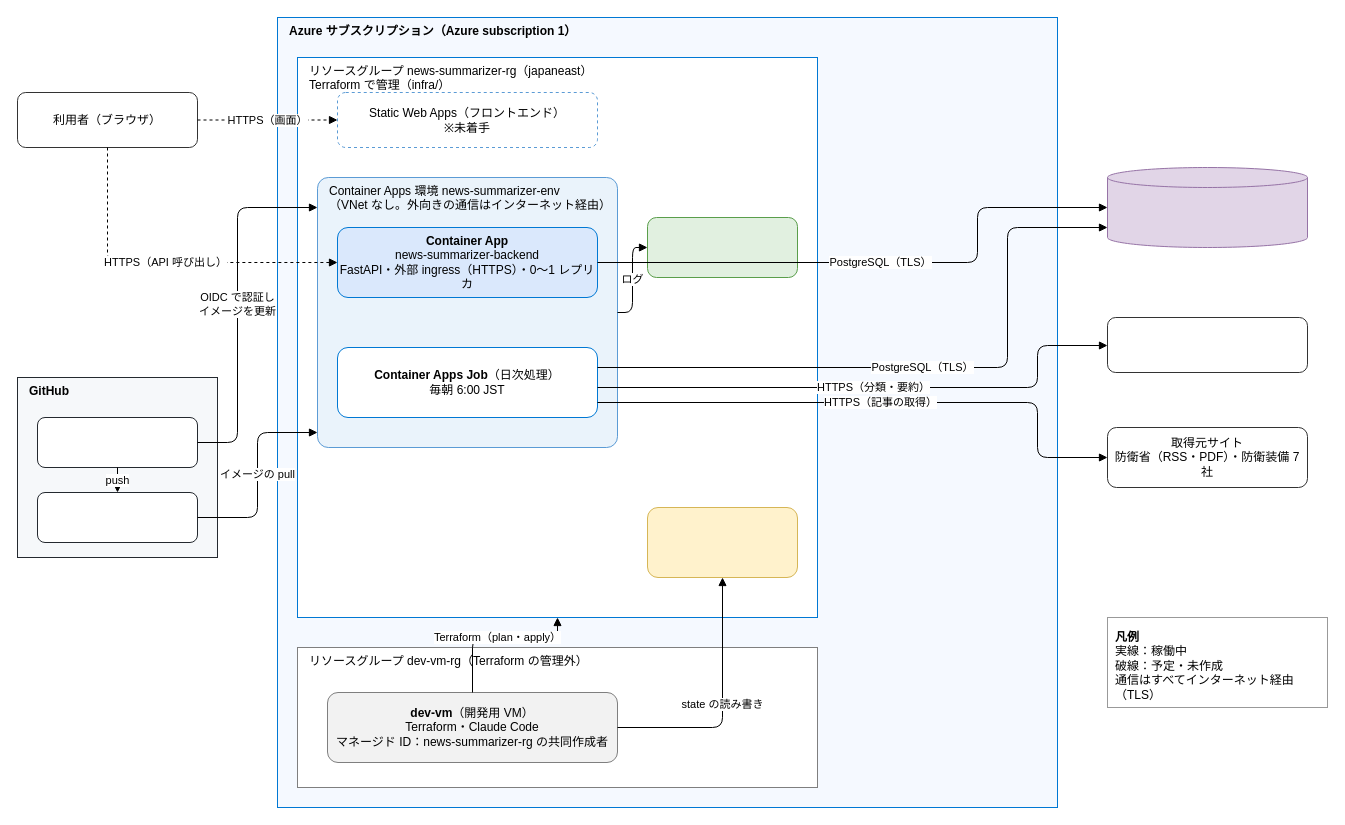
Some shapes in this 1345 by 825 pixel diagram are drawn without their labels. The centre of each missing label's shape, as x and y in pixels:
Anthropic API（Claude）: (1207,344)
ghcr.io （コンテナイメージ・公開）: (117,517)
GitHub Actions（CI/CD）: (117,442)
Log Analytics news-summarizer-env-logs: (722,247)
Neon（PostgreSQL）: (1207,207)
ストレージアカウント stnewssumtfstate （Terraform の state）: (722,542)
